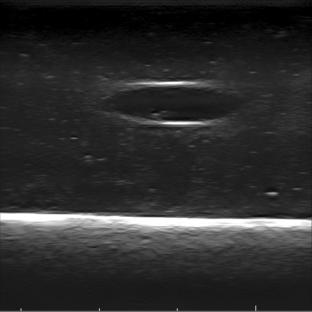vessel: (105, 80, 243, 128)
